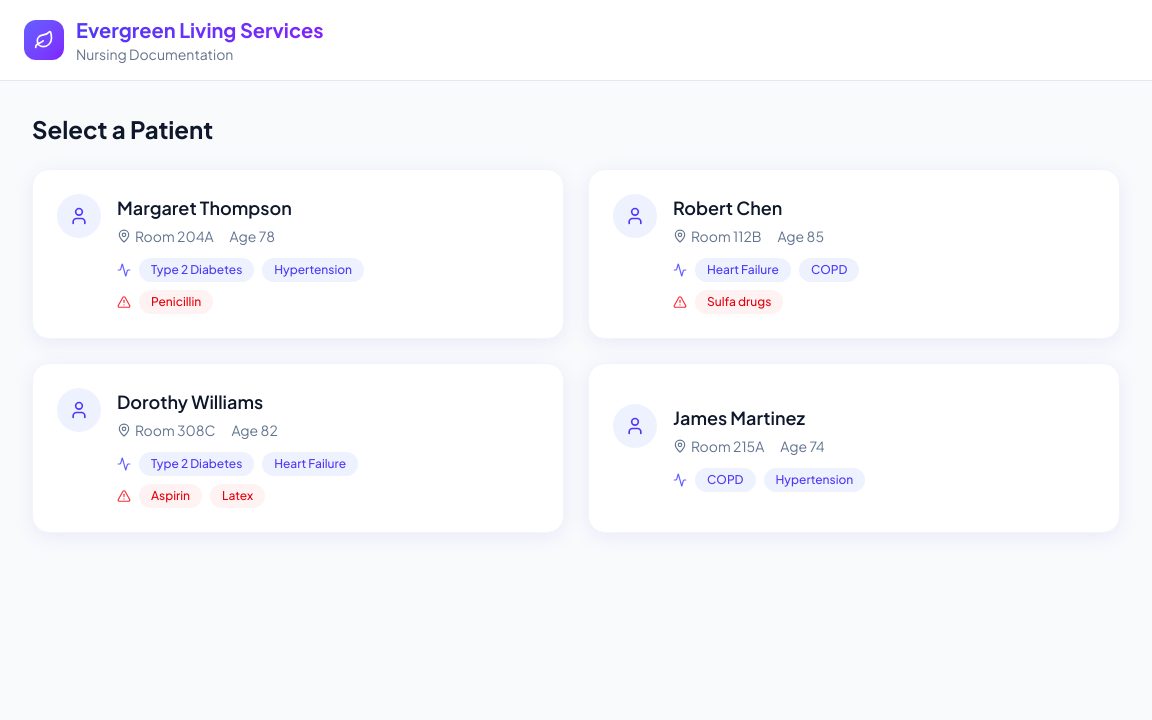
it: Integration: Patient Info Display › displays correct patient information for Robert Chen
This screenshot has width=1152, height=720.
Click the button with aria-label "Select patient Robert Chen".
click(635, 216)  # box top-left (588, 169), bottom-right (1120, 339)
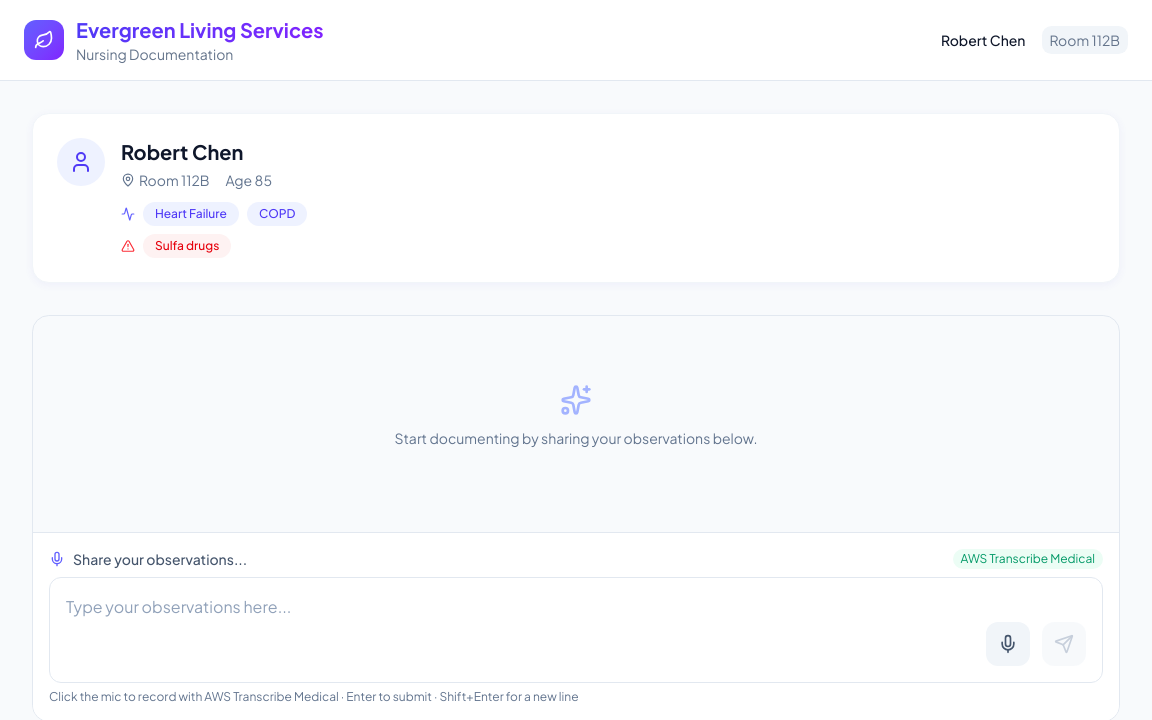
Check: the text "Room 112B" is shown, box top-left (121, 170), bottom-right (210, 190)
Check: the heading "Robert Chen" is shown, box top-left (121, 139), bottom-right (243, 164)
